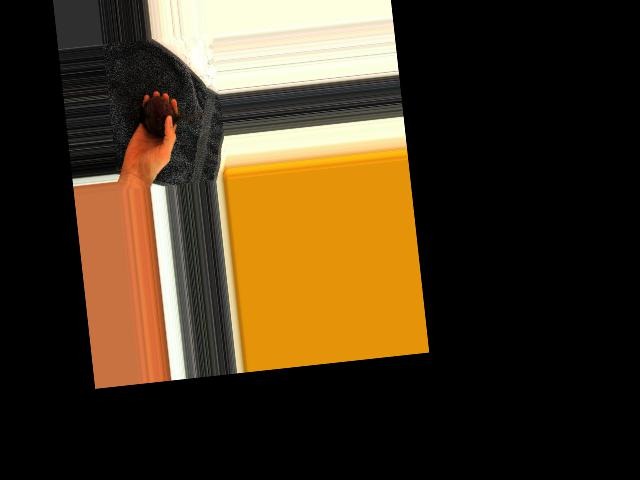beet: (136, 90, 207, 138)
